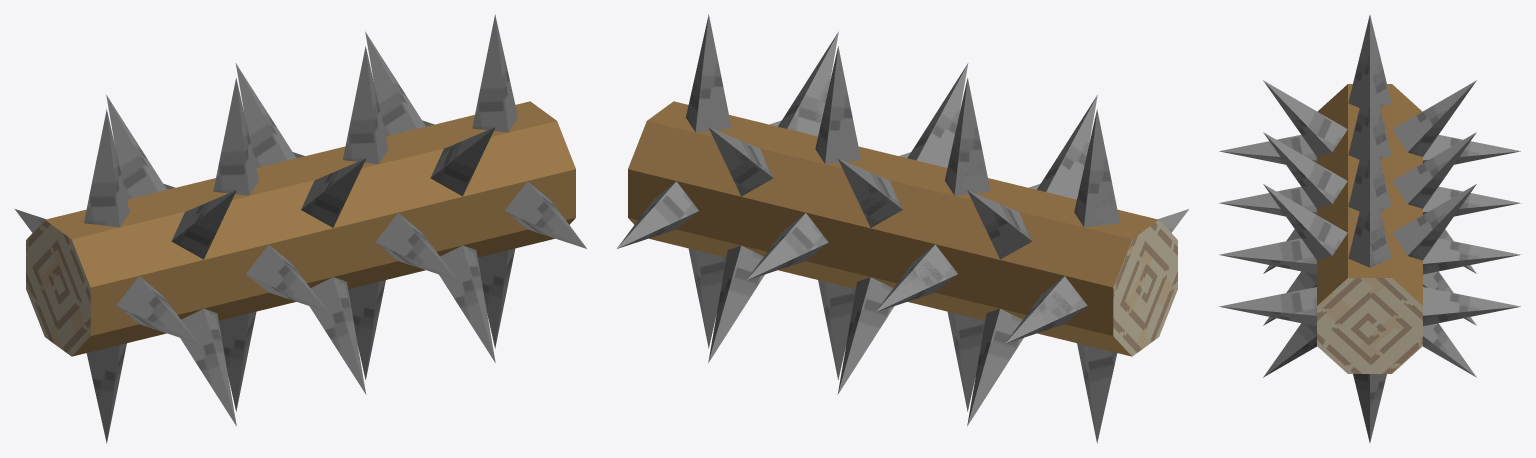
File: spiked_cylinder.fbx
3 renders of one model, left to right at view 1: azimuth 30°, elevation 25°; view 2: azimuth 150°, elevation 25°; view 3: azimuth 270°, elevation 25°, orthographic. The views are drawn at different scales.
Parts seen in each view (by area): view 1: spiked_cylinder; view 2: spiked_cylinder; view 3: spiked_cylinder.
Boxes of the visible parts, left/top/right/bottom form: spiked_cylinder: left=15, top=14, right=586, bottom=443; spiked_cylinder: left=617, top=14, right=1188, bottom=443; spiked_cylinder: left=1219, top=15, right=1520, bottom=442.
Bounding box in the file's own units: 200 × 132 × 132.
